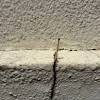crack: (50, 36, 58, 99)
